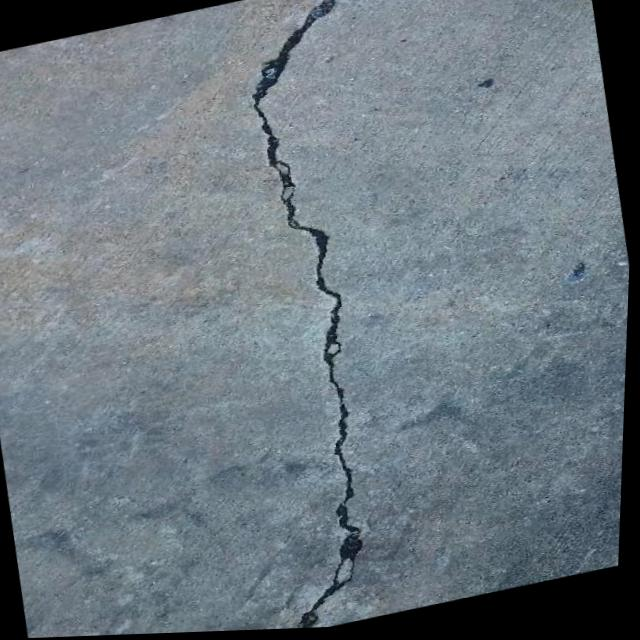Crack: (126, 0, 492, 636)
